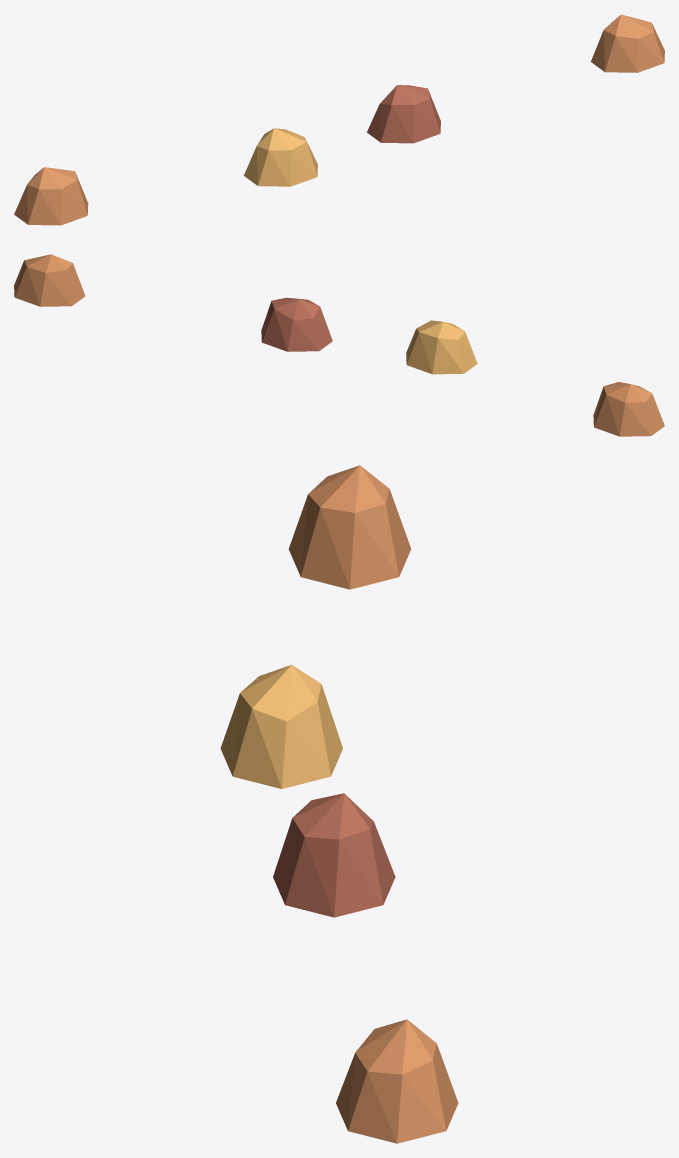
3 views of the same model, one above another, from view 1: azimuth 30°, elevation 25°; view 2: azimuth 150°, elevation 25°; view 3: azimuth 270°, elevation 25° (orthographic). The views are drawn at different scales.
Visible parts, largest first — view 1: 台地下散石.001; view 2: 台地下散石.001; view 3: 台地下散石.001.
Part boxes in pixels (x1,y1,x2,y2): 台地下散石.001: (14, 14, 664, 225); 台地下散石.001: (14, 254, 664, 436); 台地下散石.001: (220, 465, 458, 1143).
Size of the model in its own units: 2.79 by 0.18 by 0.454.
